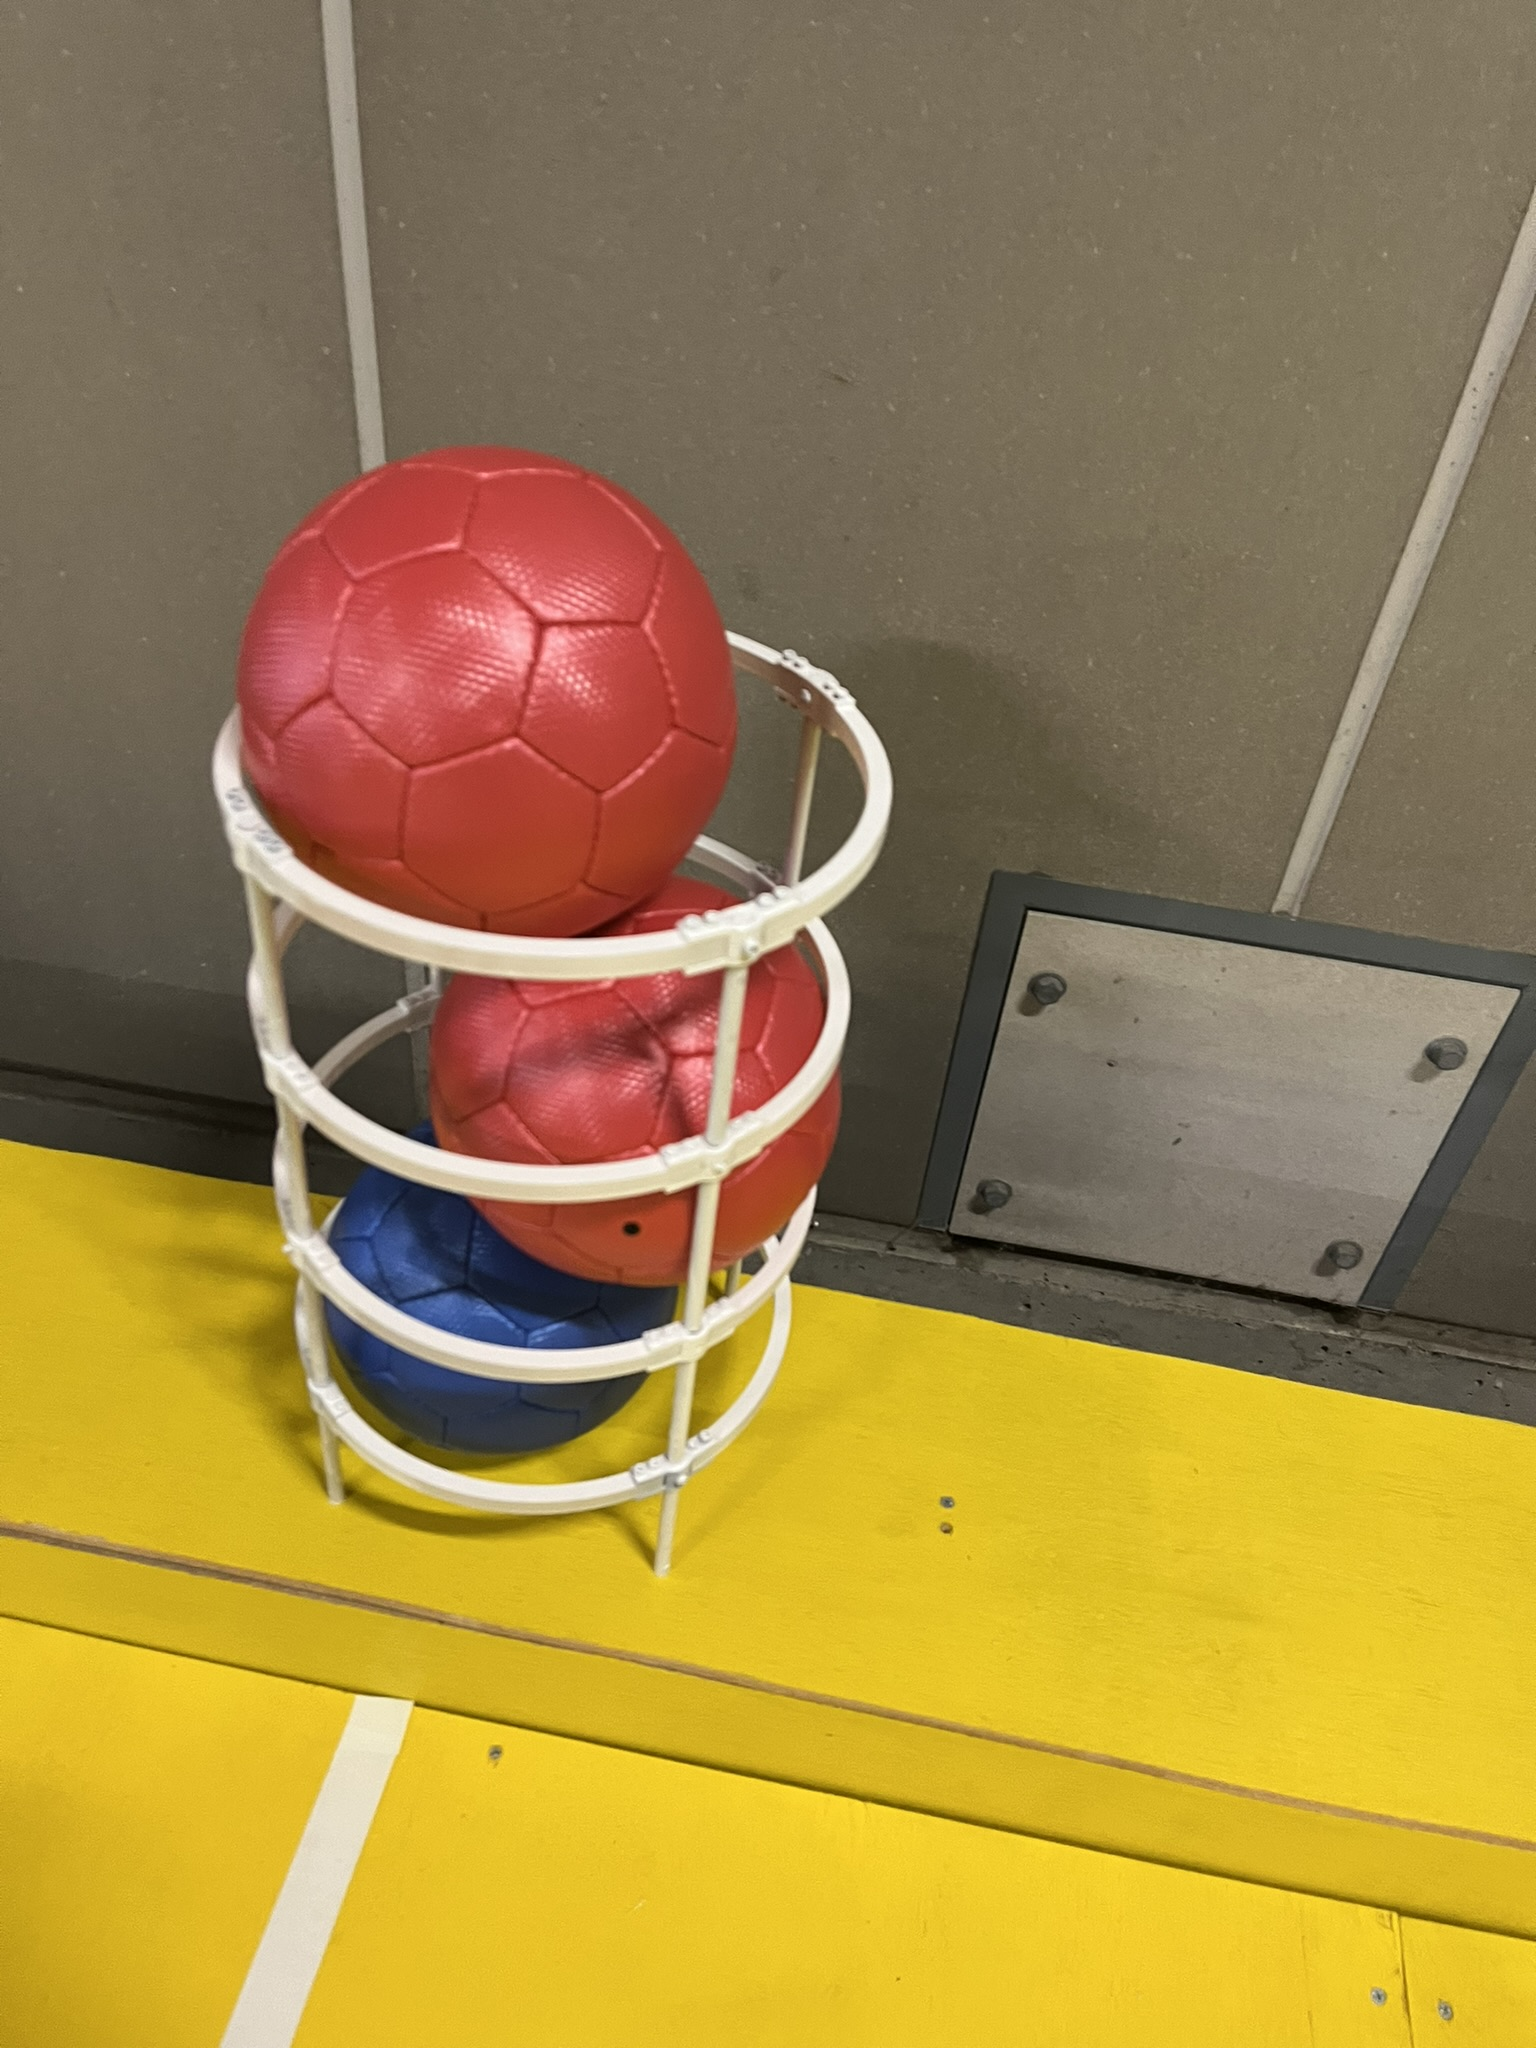blue: (298, 1095, 687, 1467)
